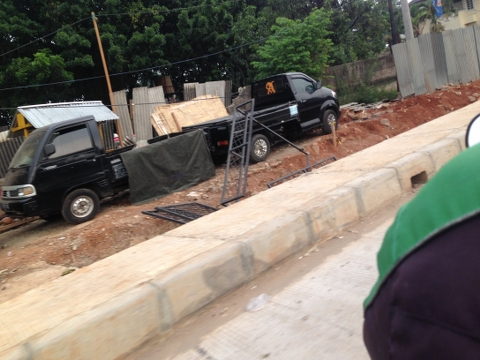mobil: (1, 115, 213, 224), (183, 72, 340, 161)
